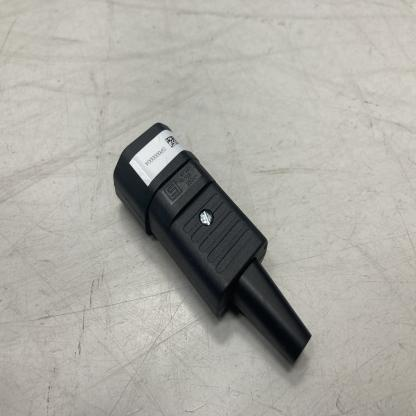SP0000004: (100, 77, 349, 388)
